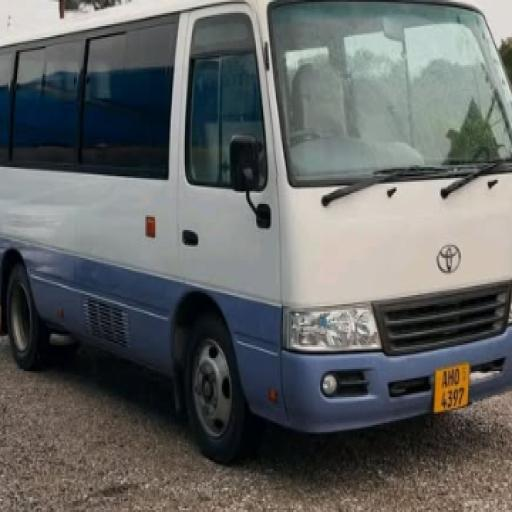number-plates: (434, 362, 468, 414)
